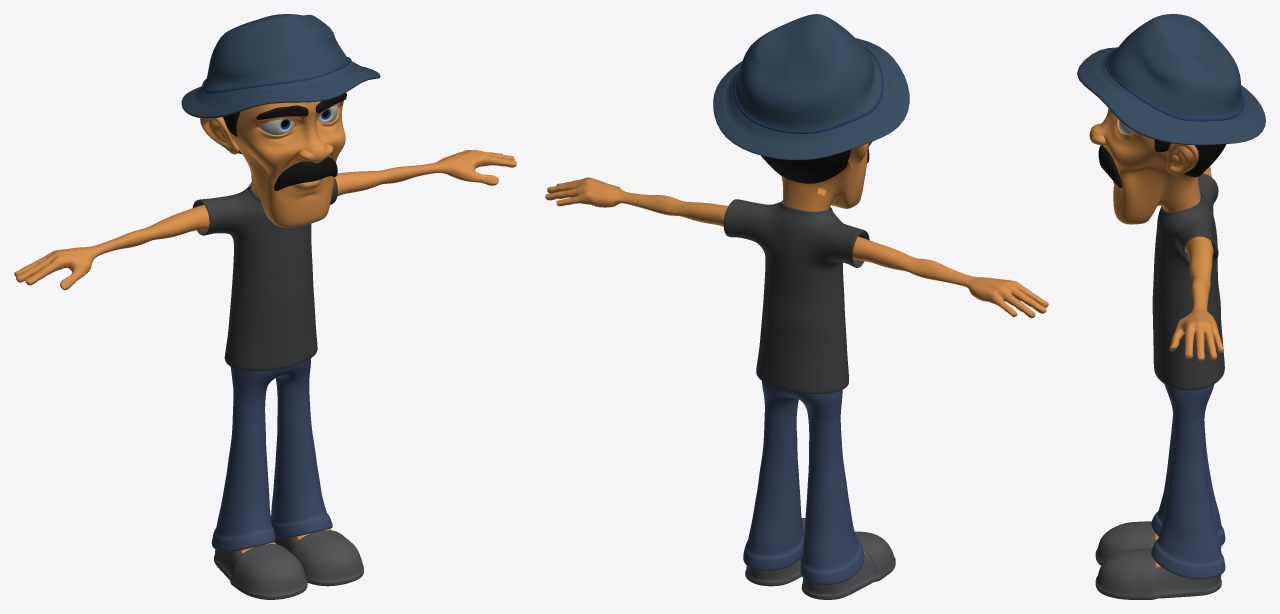
Rendered from Tom.fbx.
3 renders of one model, left to right at view 1: azimuth 30°, elevation 25°; view 2: azimuth 150°, elevation 25°; view 3: azimuth 270°, elevation 25°, orthographic.
Parts seen in each view (by area): view 1: don_ramon; view 2: don_ramon; view 3: don_ramon.
Boxes of the visible parts, <box> form: don_ramon: <box>14,14,516,599</box>; don_ramon: <box>545,14,1048,599</box>; don_ramon: <box>1077,14,1265,599</box>.
Size of the model in its own units: 82.21 by 87.34 by 27.07.
